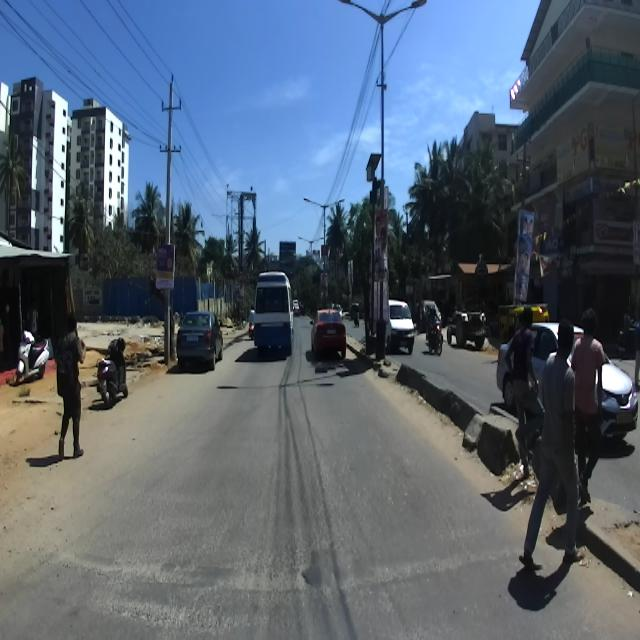bus ahead at: (244, 269, 296, 363)
car ahead at: (169, 296, 225, 388), (308, 303, 350, 362)
electric pole ahead at: (153, 61, 185, 370)
motorcycle ahead at: (95, 331, 132, 419)
person ahead at: (530, 310, 584, 586), (51, 296, 84, 477)
